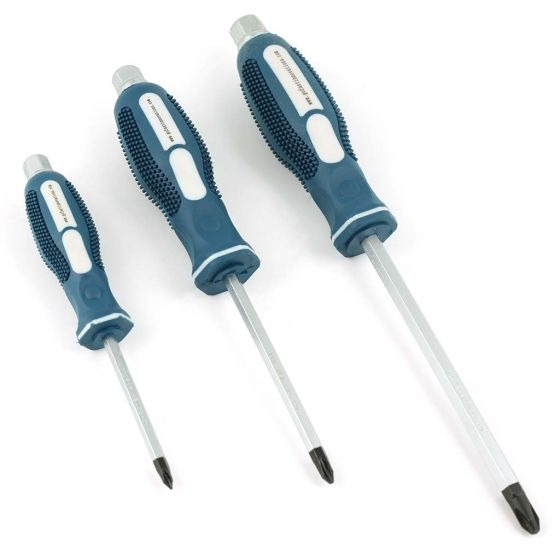screwdriver: (216, 16, 543, 536), (100, 54, 339, 487), (12, 154, 174, 489)
